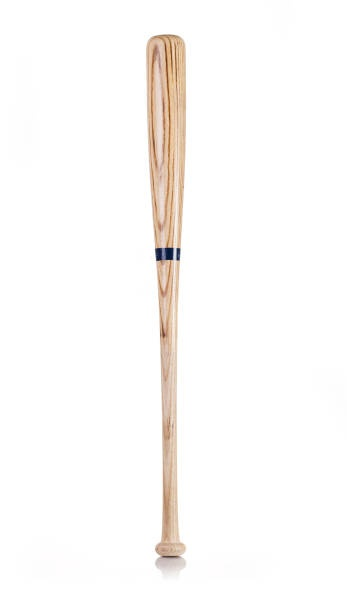bita: (146, 31, 187, 560)
